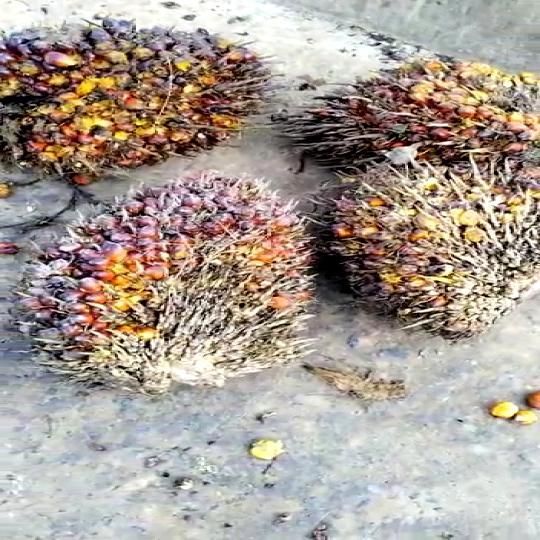masak: (0, 173, 325, 397), (0, 16, 278, 187), (302, 150, 540, 341), (279, 54, 540, 187)
